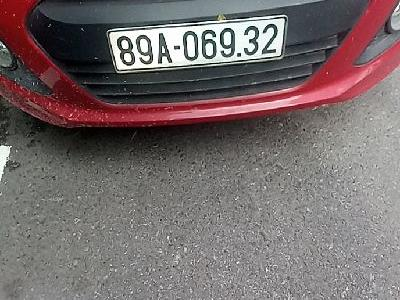number: (105, 17, 286, 68)
